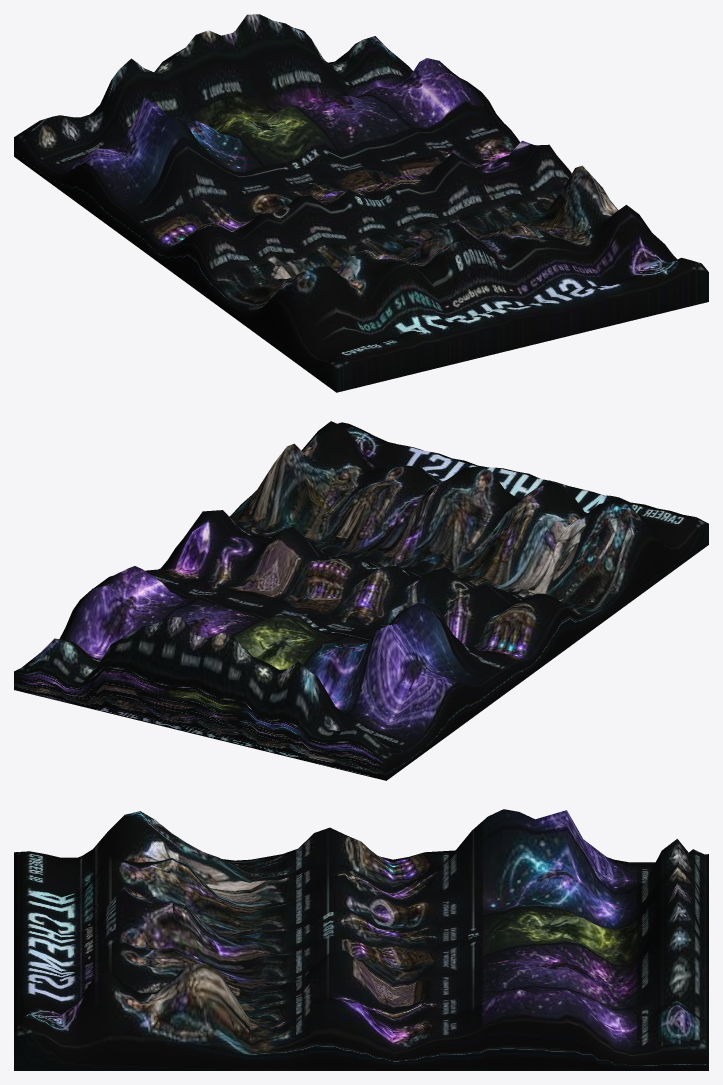
File: CAREER_16_Poster_21.glb
3 views of the same model, one above another, from view 1: azimuth 30°, elevation 25°; view 2: azimuth 150°, elevation 25°; view 3: azimuth 270°, elevation 25° (orthographic). The views are drawn at different scales.
Parts seen in each view (by area): view 1: CAREER_16_Poster_21; view 2: CAREER_16_Poster_21; view 3: CAREER_16_Poster_21.
Boxes of the visible parts, x1=… form: CAREER_16_Poster_21: x1=14, y1=14, x2=708, y2=392; CAREER_16_Poster_21: x1=14, y1=421, x2=708, y2=780; CAREER_16_Poster_21: x1=14, y1=809, x2=708, y2=1070.
Size of the model in its own units: 2 by 0.51 by 3.
1 material, 1 textured.
